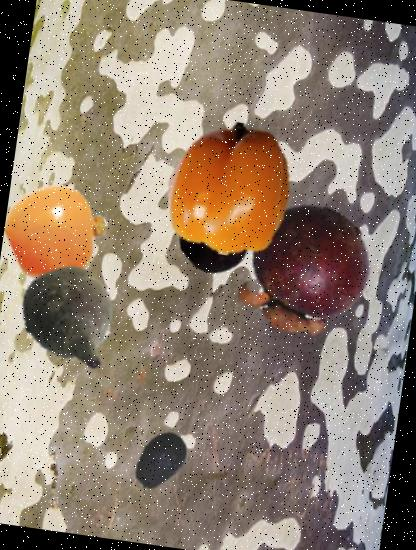Avocado: (124, 424, 198, 498)
Beetroot: (7, 254, 137, 384)
Cherry: (172, 198, 254, 280)
Mangostan: (228, 194, 382, 348)
Pepper: (154, 114, 304, 264)
Physalis: (1, 177, 114, 290)
